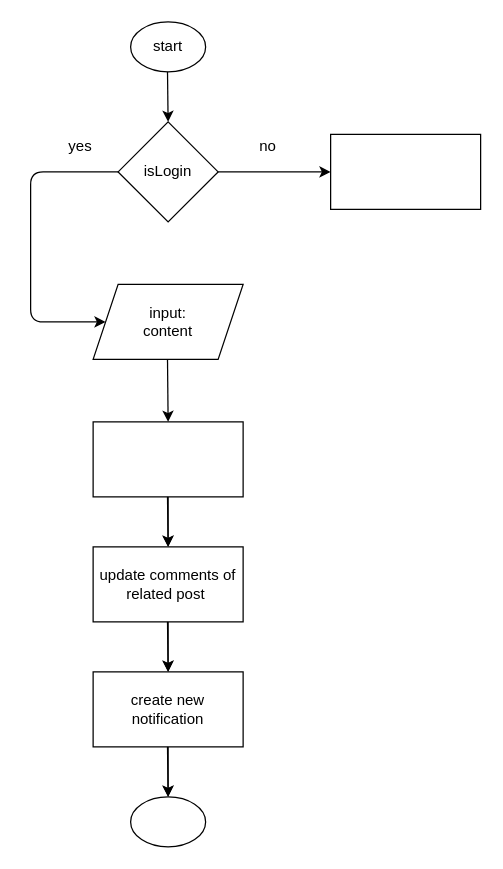
The diagram is 503 pixels wide and 869 high, and some of its shapes have lost their labels. Each missing label, with the centre of its shape:
"ask to login" belongs at (405,171).
"create new comment collection" belongs at (167,459).
"end" belongs at (167,821).
